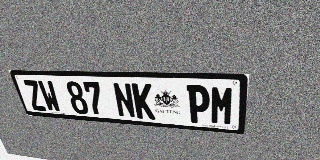7: (81, 82, 106, 116)
8: (64, 81, 90, 115)
K: (131, 83, 155, 120)
M: (210, 85, 235, 126)
N: (112, 82, 136, 118)
P: (187, 85, 210, 124)
W: (37, 80, 62, 112)
Z: (22, 80, 47, 111)
